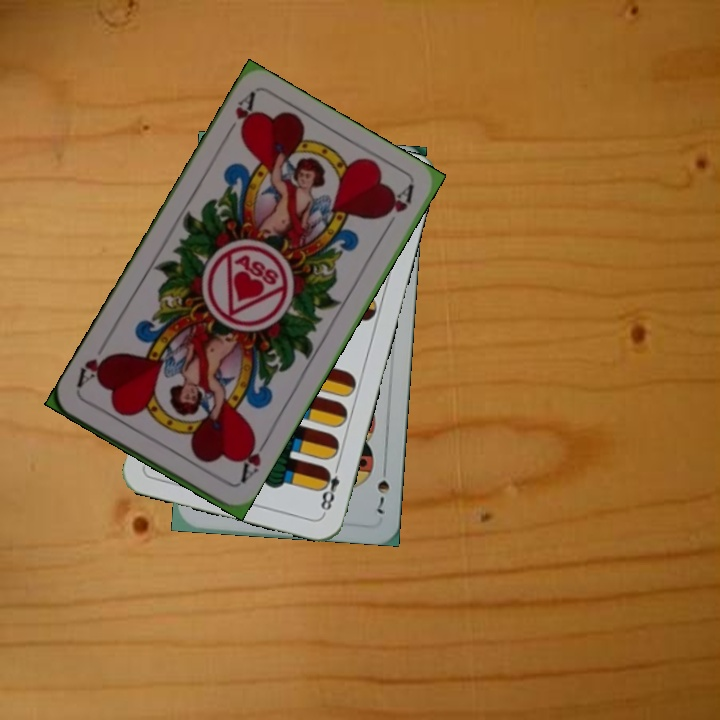E8: (316, 458, 343, 516)
HA: (232, 432, 270, 488), (219, 89, 258, 143)
S7: (373, 476, 392, 517)
